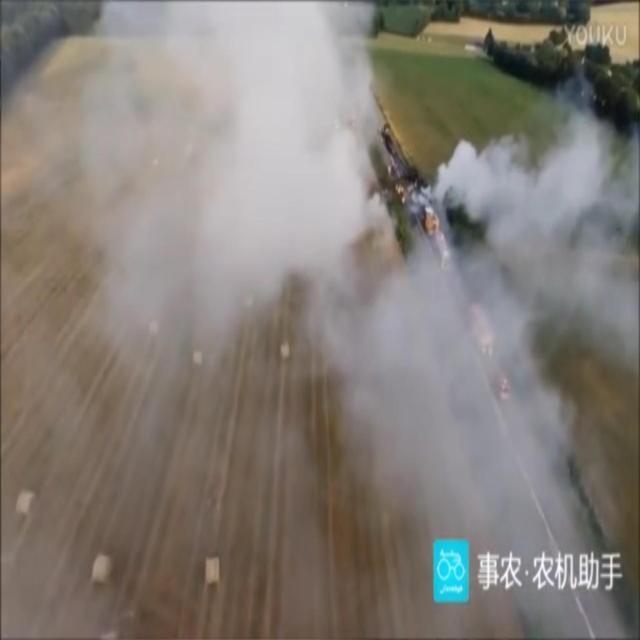Smoke: (79, 0, 640, 638)
